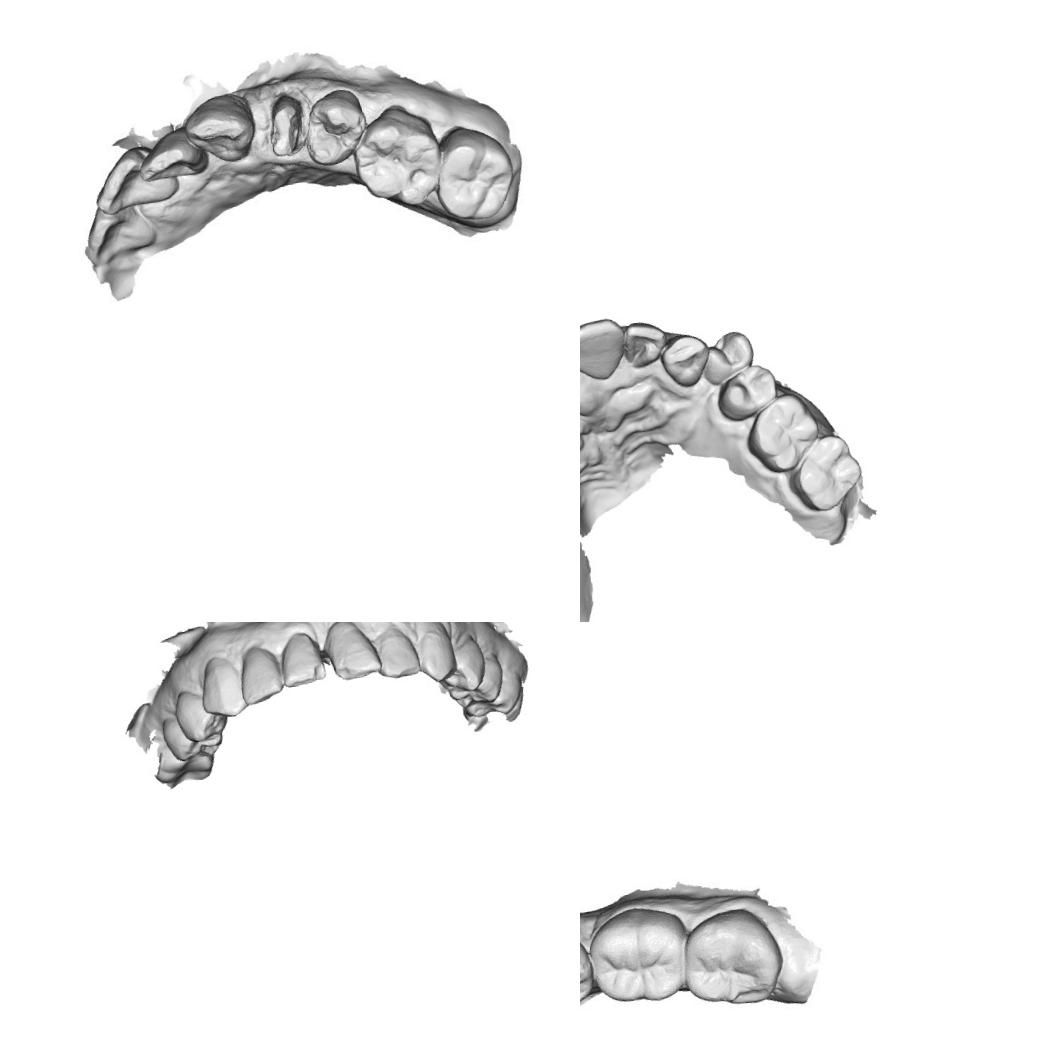canine: (183, 94, 255, 165), (195, 650, 248, 720), (658, 329, 714, 392), (412, 622, 459, 685)
crown: (256, 83, 313, 163)
incisor: (78, 199, 160, 269), (93, 152, 176, 217), (138, 125, 208, 190), (321, 622, 383, 683), (236, 640, 287, 709), (580, 315, 629, 385), (276, 626, 328, 690), (371, 622, 423, 682), (619, 317, 670, 371)
molar: (586, 896, 694, 1008), (678, 904, 784, 1014), (350, 99, 450, 207), (432, 120, 516, 225), (740, 389, 826, 478), (782, 429, 868, 516)
premolar: (297, 84, 368, 168), (170, 684, 239, 751), (712, 361, 781, 426), (698, 326, 758, 388), (442, 634, 490, 694), (580, 924, 598, 1011), (160, 720, 190, 761)
